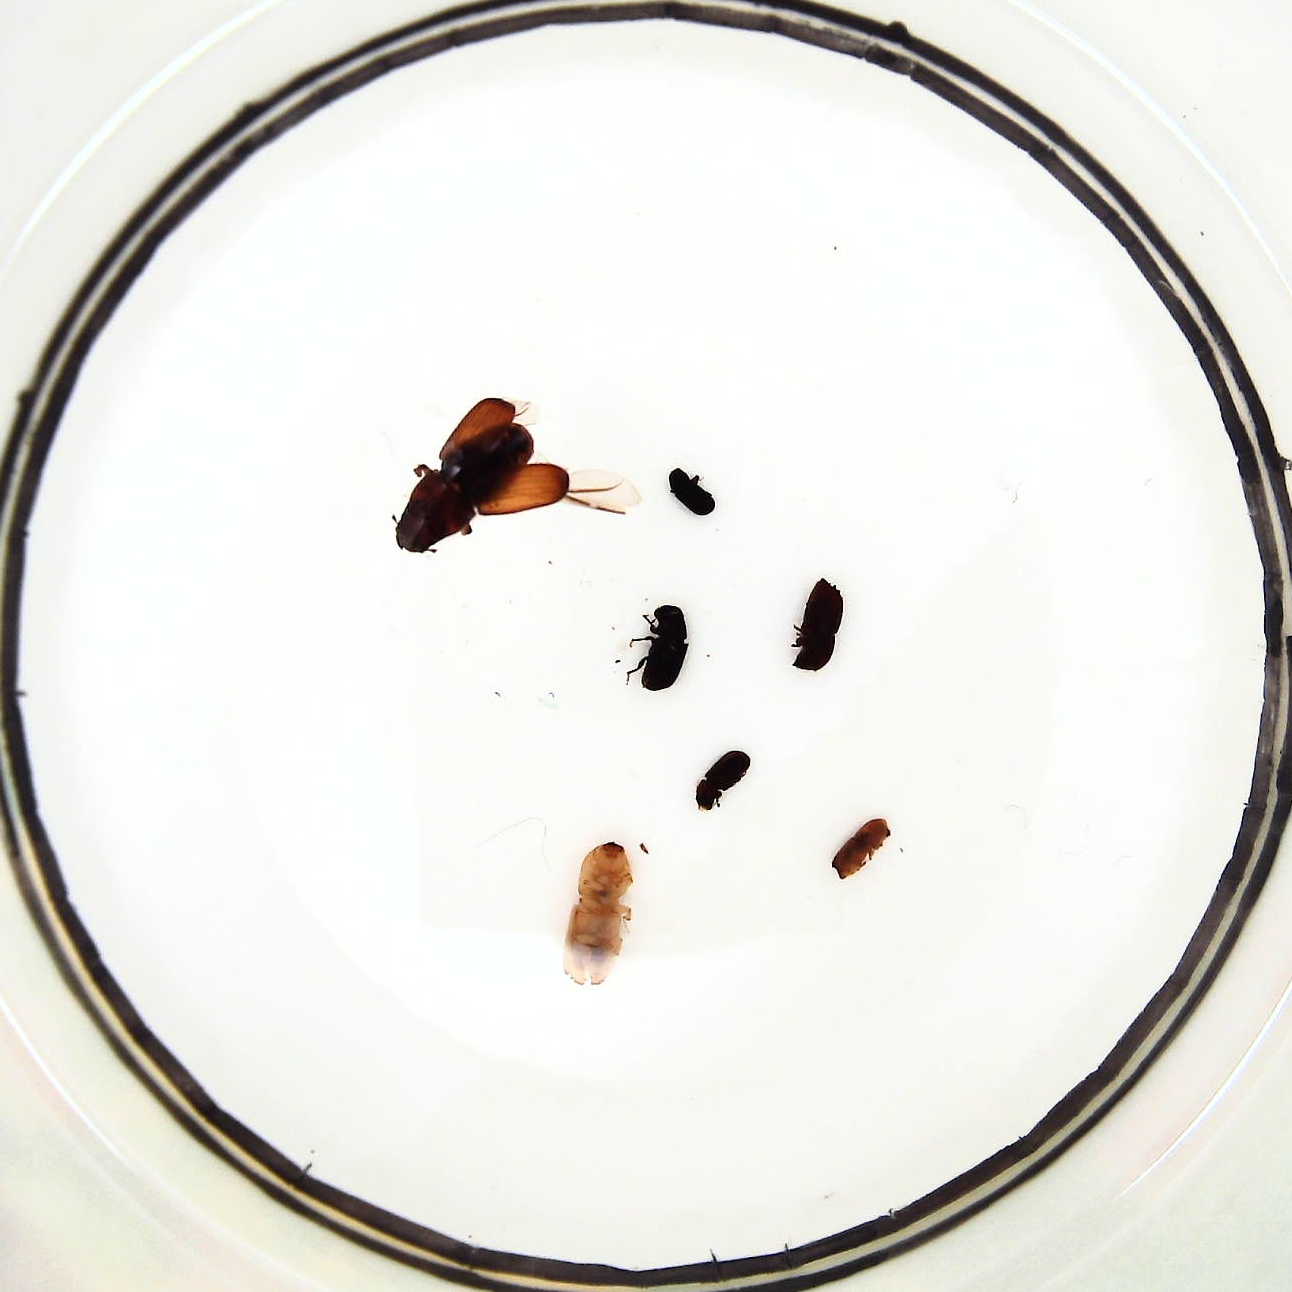Boerner: (571, 840, 629, 978)
Leconte: (394, 396, 574, 554)
Linnaeus: (792, 571, 847, 676)
acuminatus: (828, 815, 896, 876)
armandi: (635, 601, 686, 696)
coleoptera: (691, 745, 747, 803), (672, 469, 711, 523)
